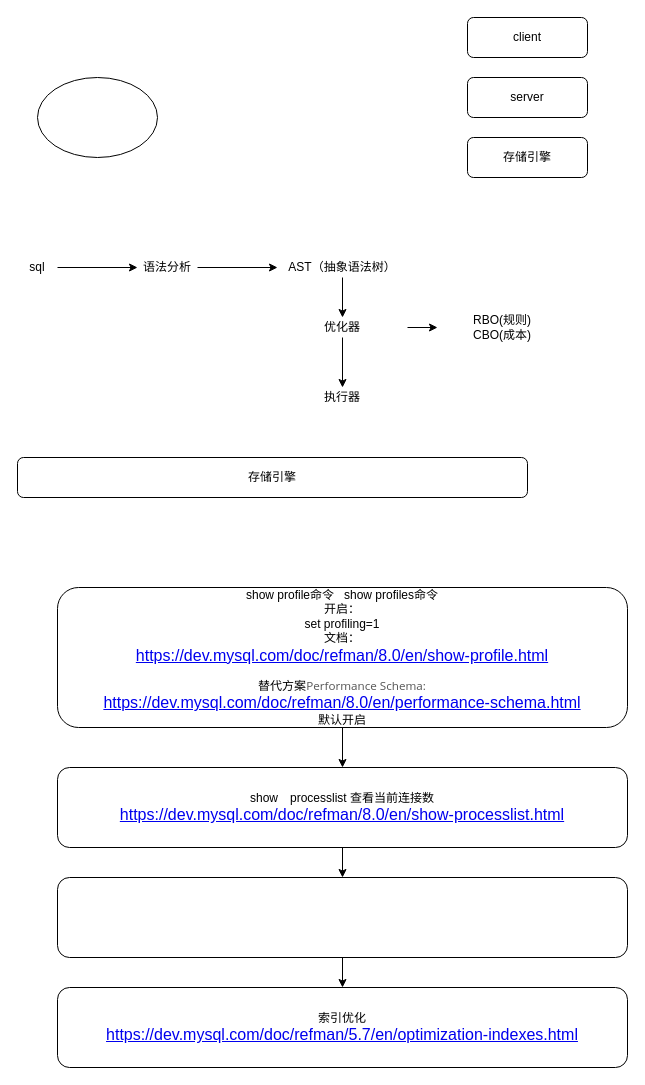
Some shapes in this 645 by 1085 pixel diagram are drawn without their labels. Here are the shapes that lost their labels. From the top down, the centre of each, then its label:
At [97,117]: "mysql优化".
At [342,917]: "explain statement https://dev.mysql.com/doc/refman/8.0/en/show-processlist.html".
